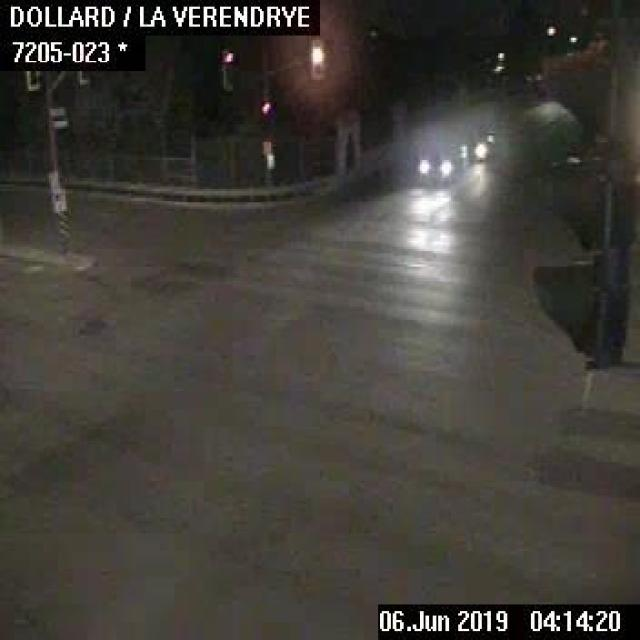vehicle: (408, 145, 457, 180), (456, 132, 492, 162)
